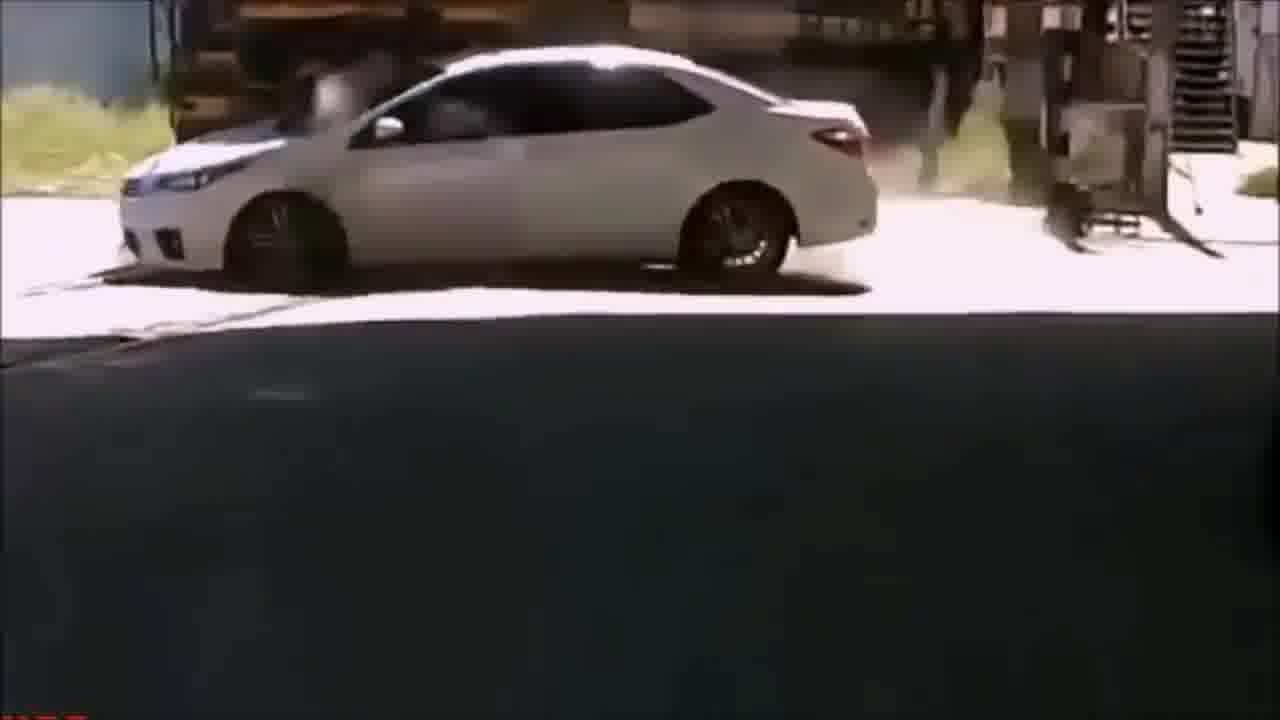crossing railway track: (112, 44, 892, 286)
